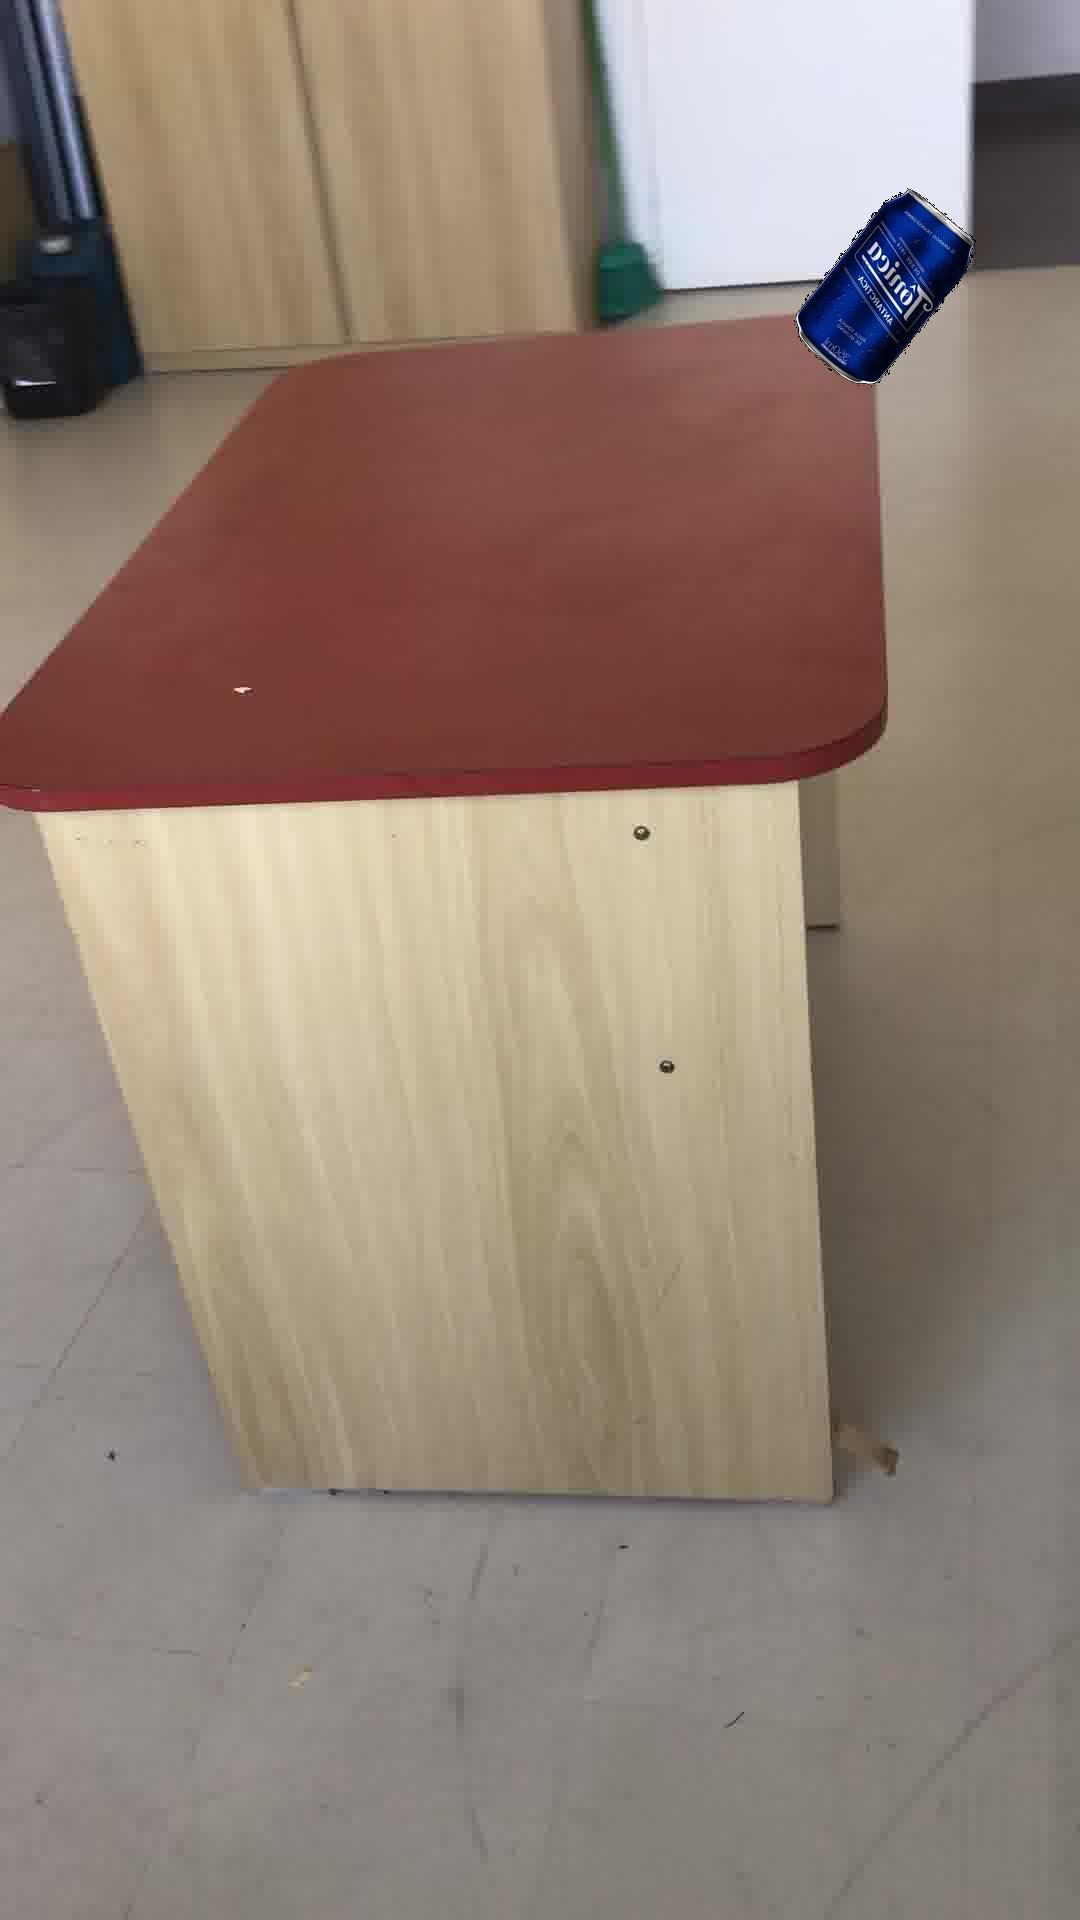tonic: (794, 187, 973, 384)
